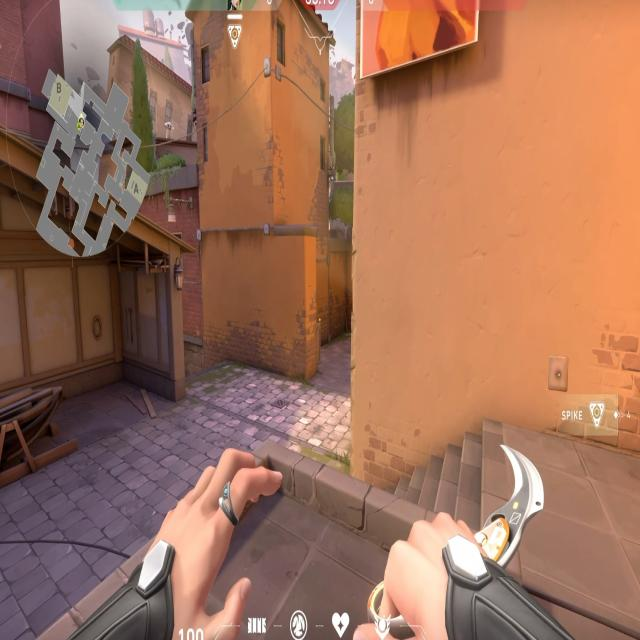B_Garage_Right: (6, 230, 187, 451)
